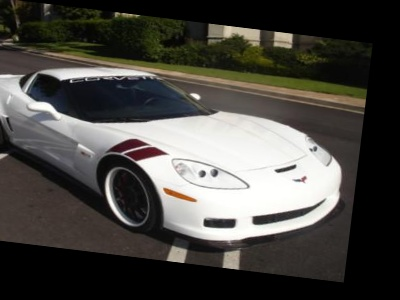car: (0, 38, 362, 267)
